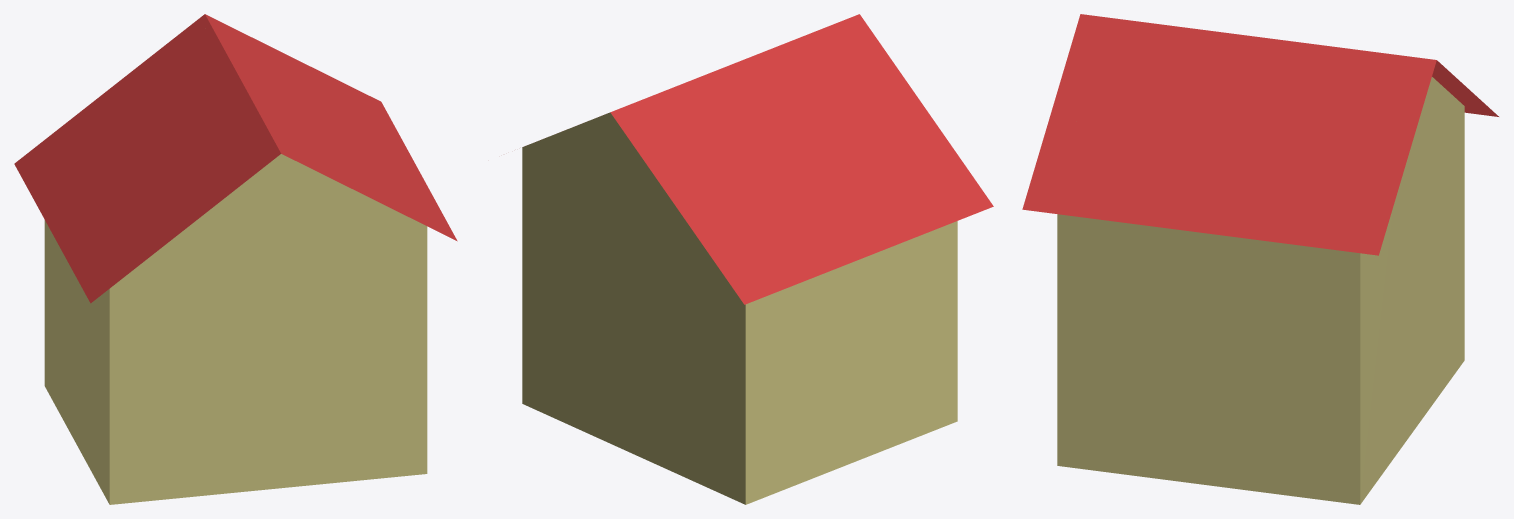
3 views of the same model, side by side, from view 1: azimuth 30°, elevation 25°; view 2: azimuth 150°, elevation 25°; view 3: azimuth 270°, elevation 25° (orthographic). The views are drawn at different scales.
Parts seen in each view (by area): view 1: group_5, group_3, group_4; view 2: group_5, group_3, group_4; view 3: group_5, group_3, group_4.
Part boxes in pixels (x1=…): group_5: x1=44, y1=154, x2=427, y2=504; group_3: x1=14, y1=14, x2=457, y2=303; group_4: x1=15, y1=14, x2=456, y2=240; group_5: x1=522, y1=112, x2=957, y2=504; group_3: x1=610, y1=14, x2=993, y2=304; group_4: x1=611, y1=105, x2=746, y2=303; group_5: x1=1057, y1=77, x2=1464, y2=504; group_3: x1=1022, y1=17, x2=1498, y2=255; group_4: x1=1022, y1=14, x2=1497, y2=208.
Bounding box in the file's own units: 13.55 × 12.81 × 11.24.
